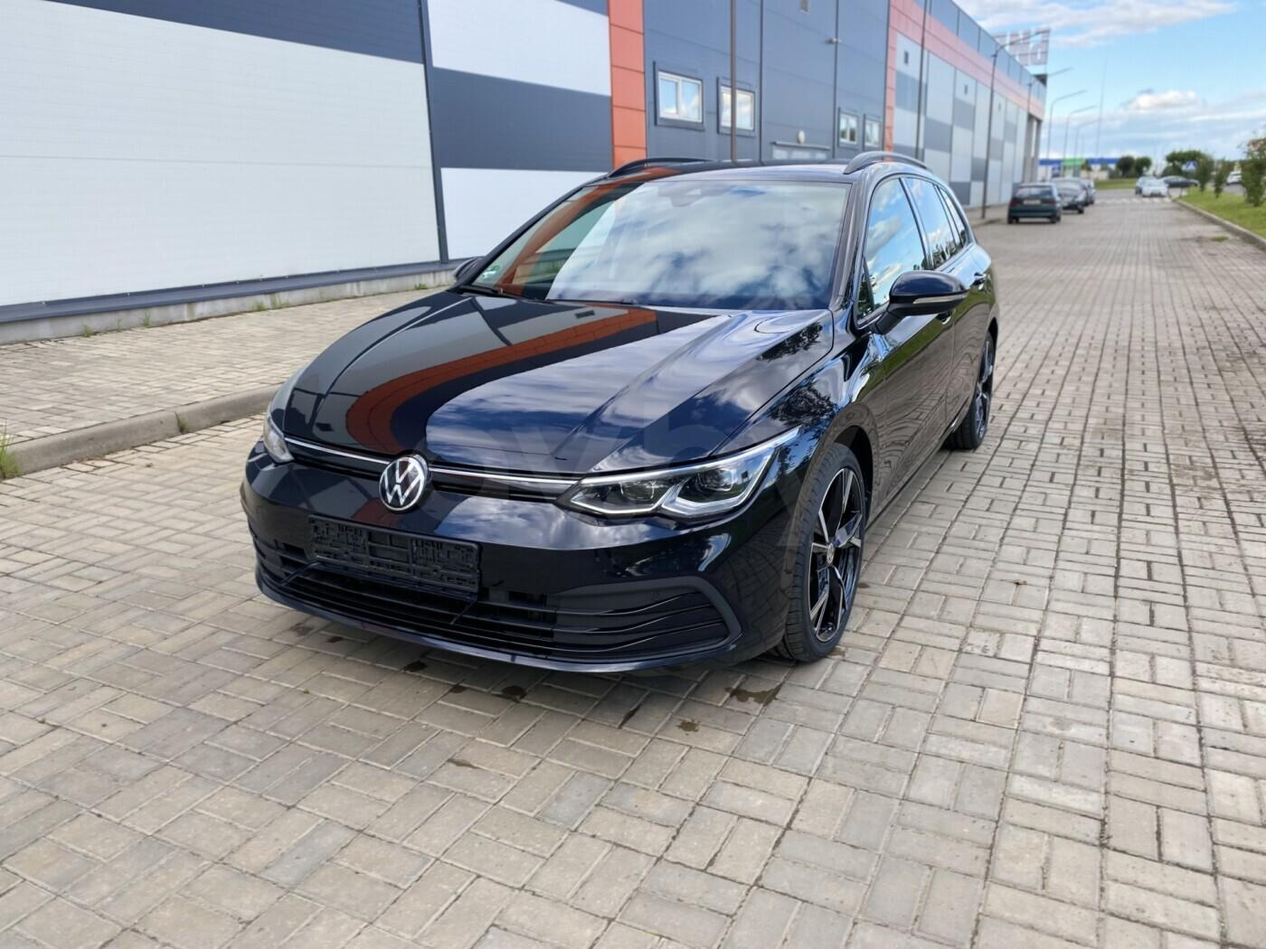Golf_2019: (231, 155, 1009, 677)
